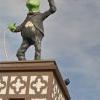Statue: (5, 4, 68, 63)
